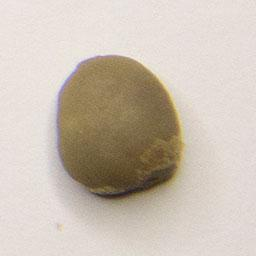premium: (52, 51, 187, 205)
